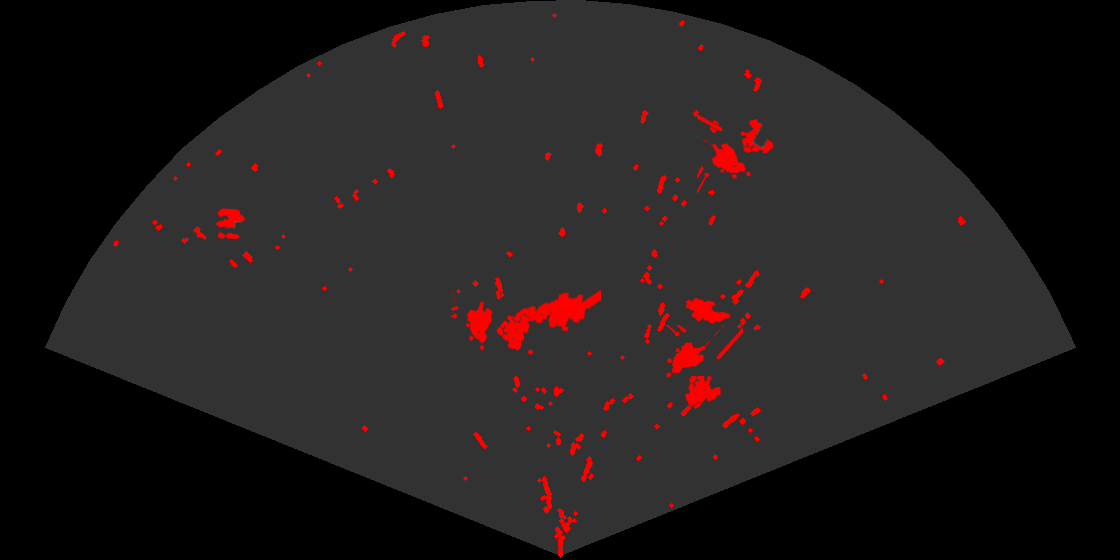AUV: (684, 296, 732, 325)
ball: (214, 207, 246, 241)
cage: (664, 325, 743, 407), (697, 113, 775, 195), (451, 291, 532, 352)
frogman: (505, 288, 601, 333)
